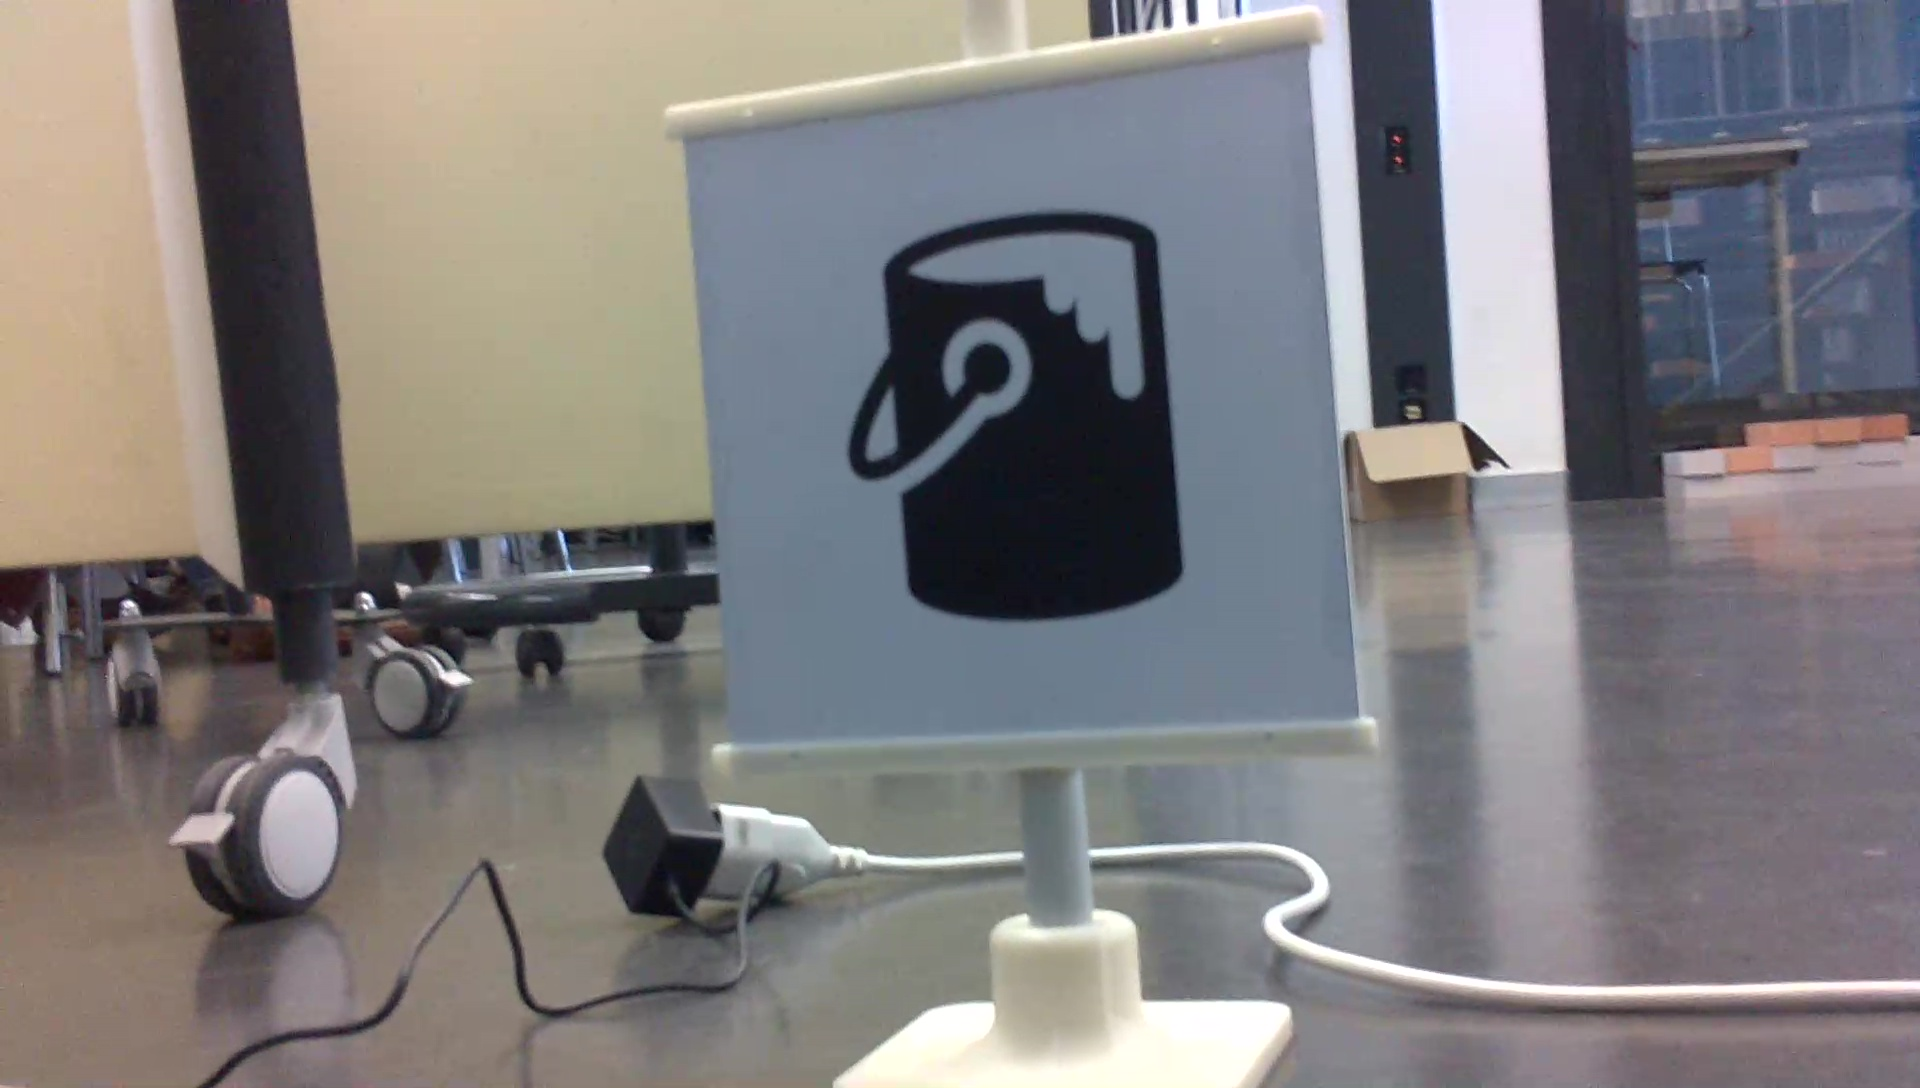bucket: (832, 200, 1195, 636)
